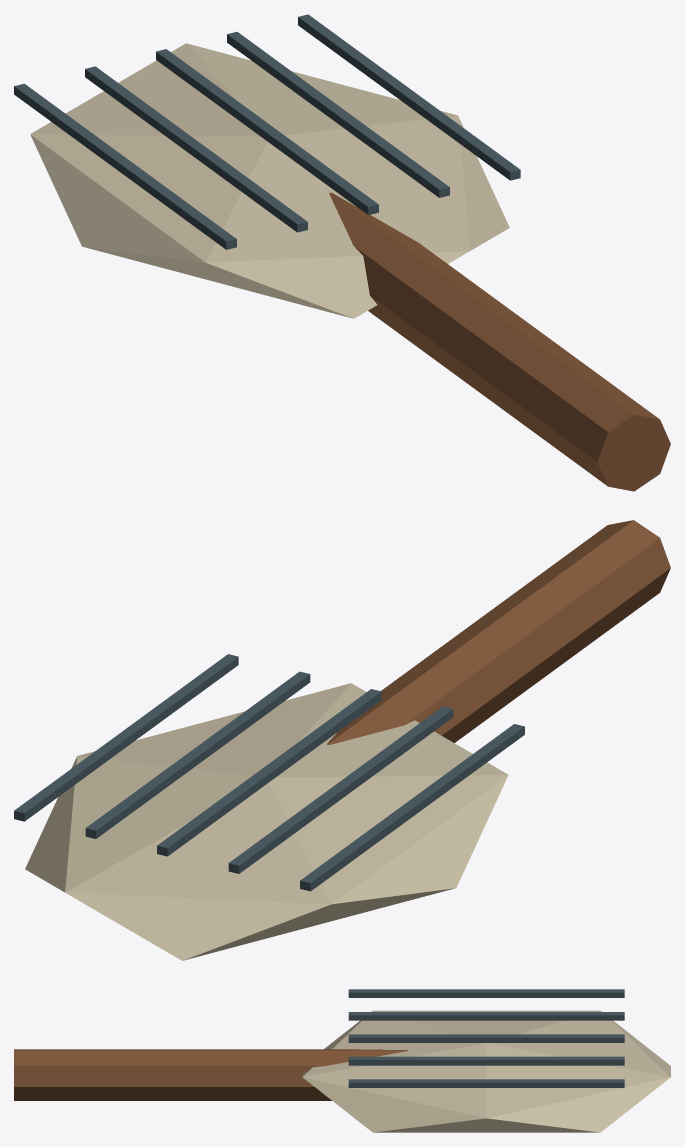
Rendered from set_tennis_racket.glb.
The picture shows the model from 3 angles, top to bottom: view 1: azimuth 30°, elevation 25°; view 2: azimuth 150°, elevation 25°; view 3: azimuth 270°, elevation 25°; orthographic projection. The views are drawn at different scales.
Parts seen in each view (by area): view 1: set_tennis_racket; view 2: set_tennis_racket; view 3: set_tennis_racket.
Part boxes in pixels (x1,y1,x2,y2): set_tennis_racket: [14, 14, 670, 491]; set_tennis_racket: [14, 520, 670, 960]; set_tennis_racket: [14, 989, 670, 1132].
Size of the model in its own units: 0.1431 by 0.0355 by 0.3336.
